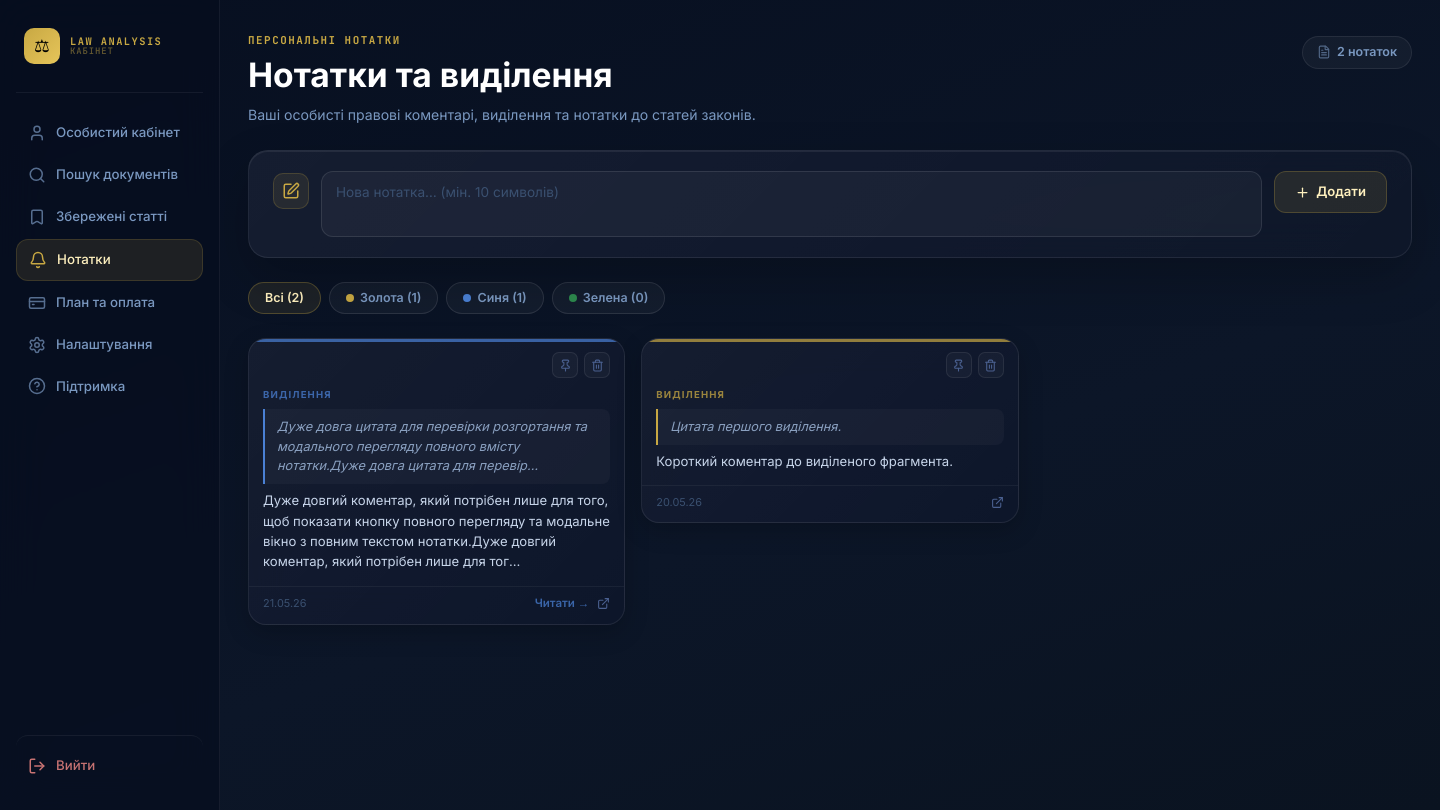
Test case: Account notes page › filters notes by color chips
Expected: the text "Короткий коментар до виділеного фрагмента." is shown, x1=656 y1=451 x2=1004 y2=471
Expected: the text "Дуже довгий коментар" is shown, x1=263 y1=492 x2=610 y2=569
Click the button "Синя (1)".
click(495, 298)  # box x1=446 y1=282 x2=544 y2=314
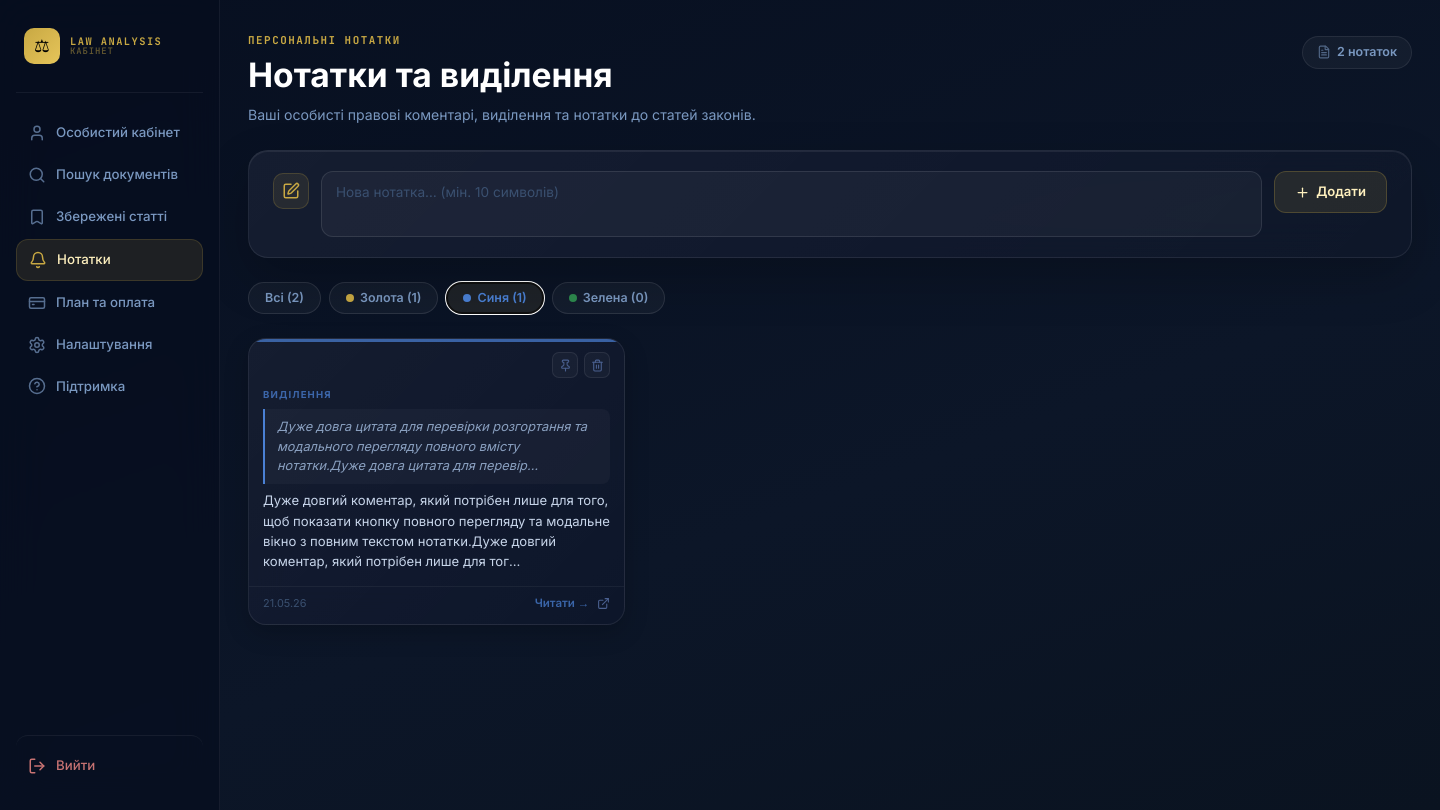
Expected: the text "Дуже довгий коментар" is shown, x1=263 y1=492 x2=610 y2=569
Now the text "Короткий коментар до виділеного фрагмента." is gone
